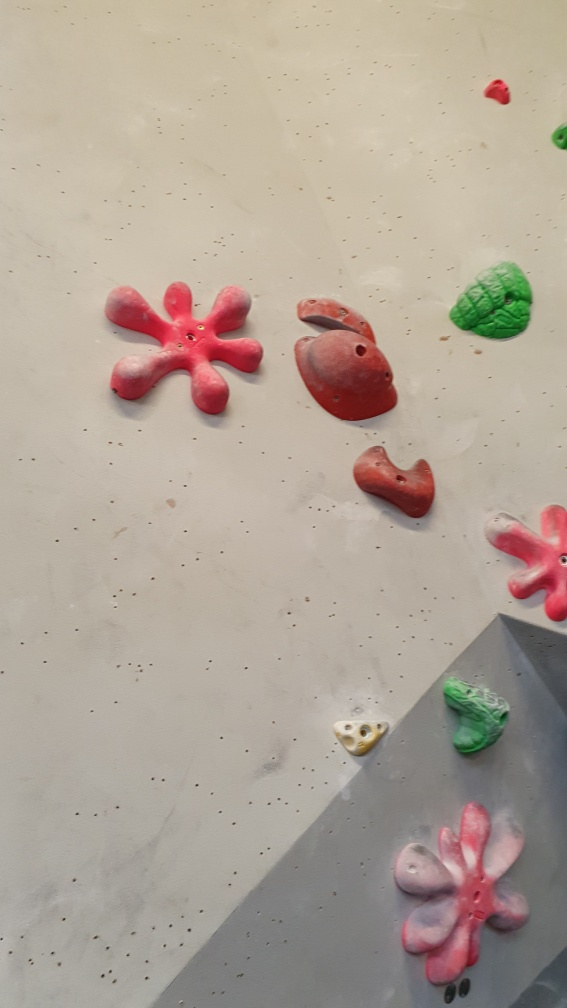Hand Start: (457, 978, 473, 1000), (443, 981, 457, 1005)
Jug: (445, 260, 537, 342)
Octopus Pinch: (393, 802, 533, 990), (100, 273, 267, 419), (486, 503, 567, 624)
Sloper: (312, 327, 400, 415)
